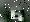person: (18, 8, 25, 21), (13, 8, 19, 19)
